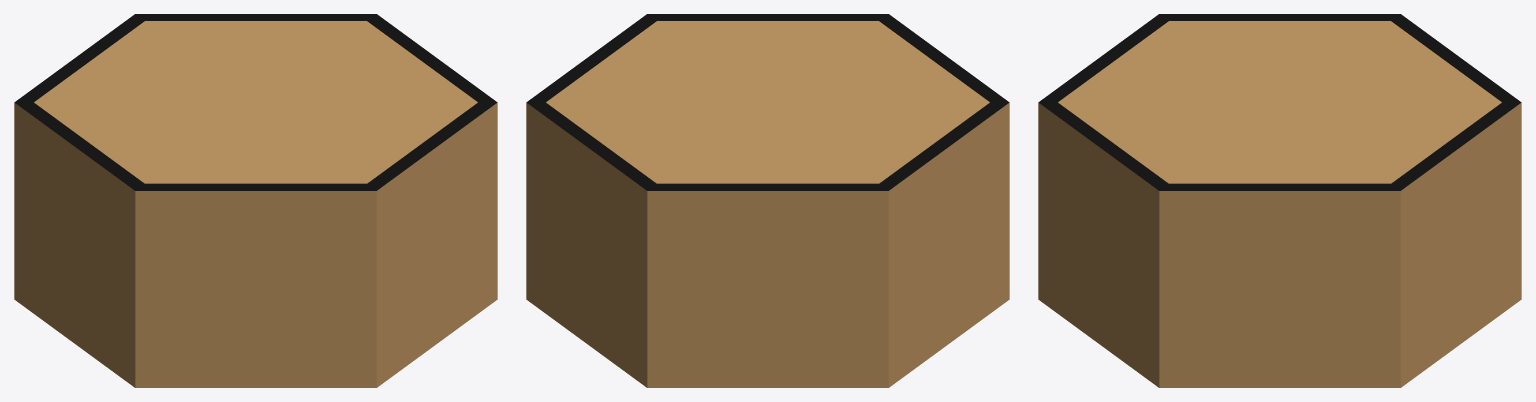
Rendered from sand_road_tile1.glb.
The picture shows the model from 3 angles, left to right: view 1: azimuth 30°, elevation 25°; view 2: azimuth 150°, elevation 25°; view 3: azimuth 270°, elevation 25°; orthographic projection.
Parts seen in each view (by area): view 1: SandHalfTile-col; view 2: SandHalfTile-col; view 3: SandHalfTile-col.
Part boxes in pixels (bbox=[...]): SandHalfTile-col: bbox=[14, 14, 497, 387]; SandHalfTile-col: bbox=[526, 14, 1009, 387]; SandHalfTile-col: bbox=[1038, 14, 1521, 387].
Bounding box in the file's own units: 1.73 × 0.9 × 2.
2 materials, 2 textured.
